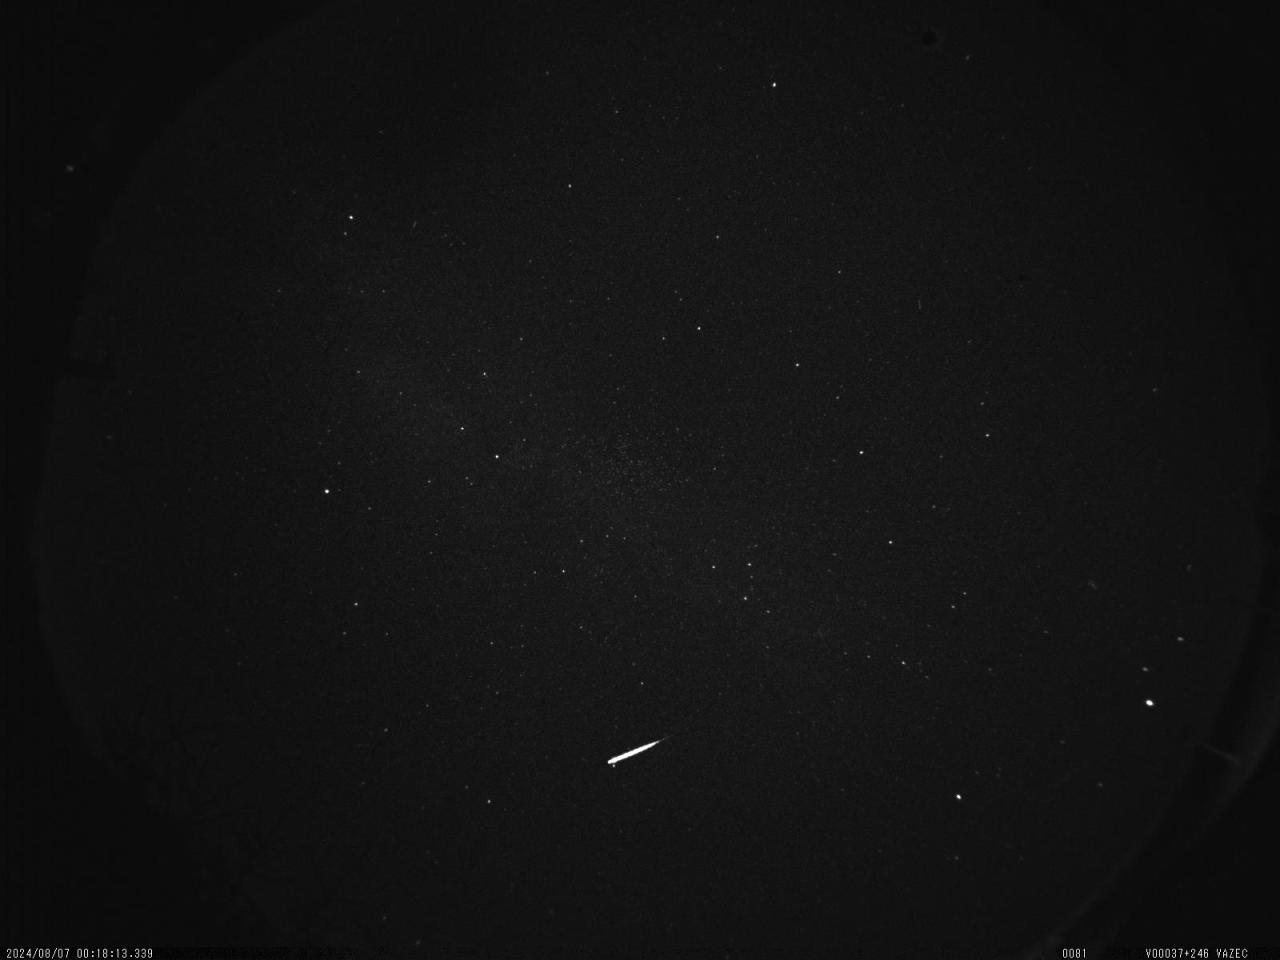Meteor: (605, 735, 664, 767)
